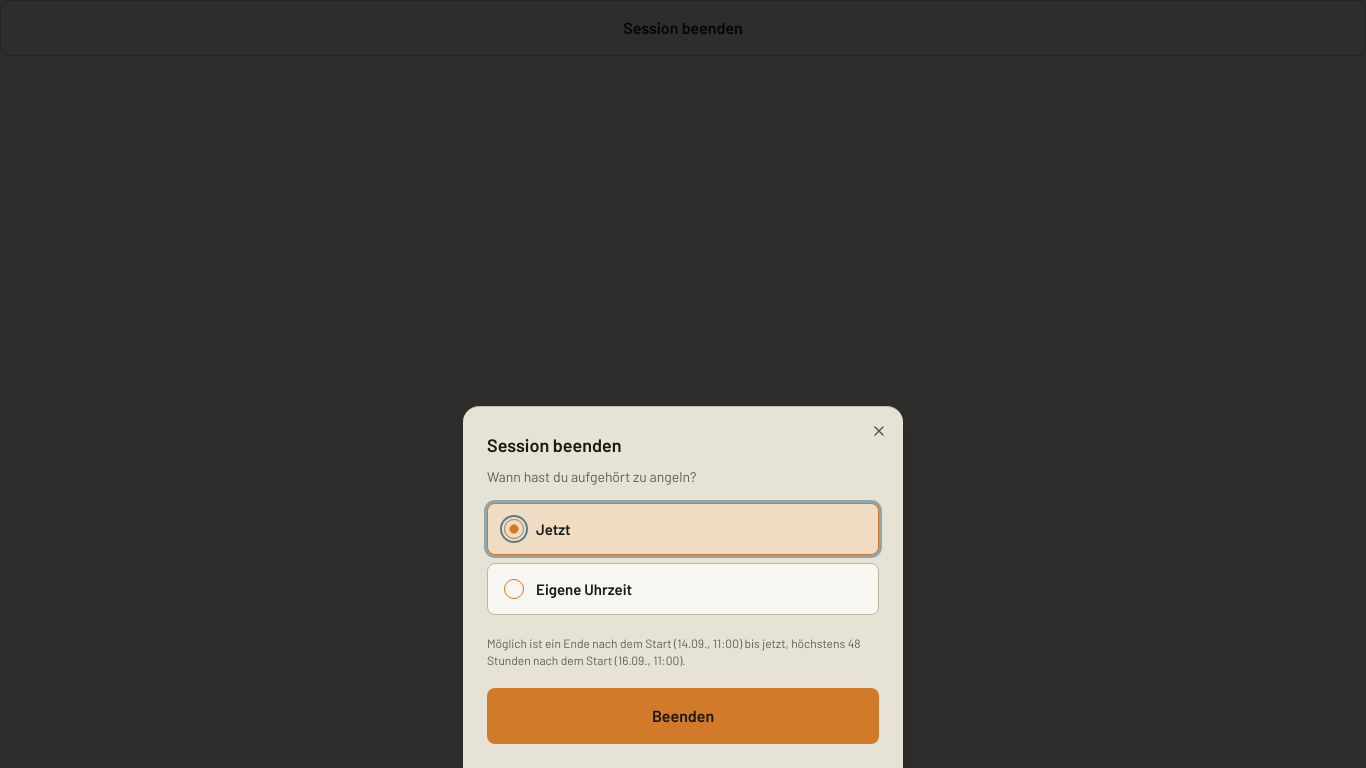
Test: EndSessionSheet › asks for a time before sending a custom end without one
Click the radio button named "Eigene Uhrzeit" next to "Eigene Uhrzeit" at (514, 589), box [504,579,524,599]
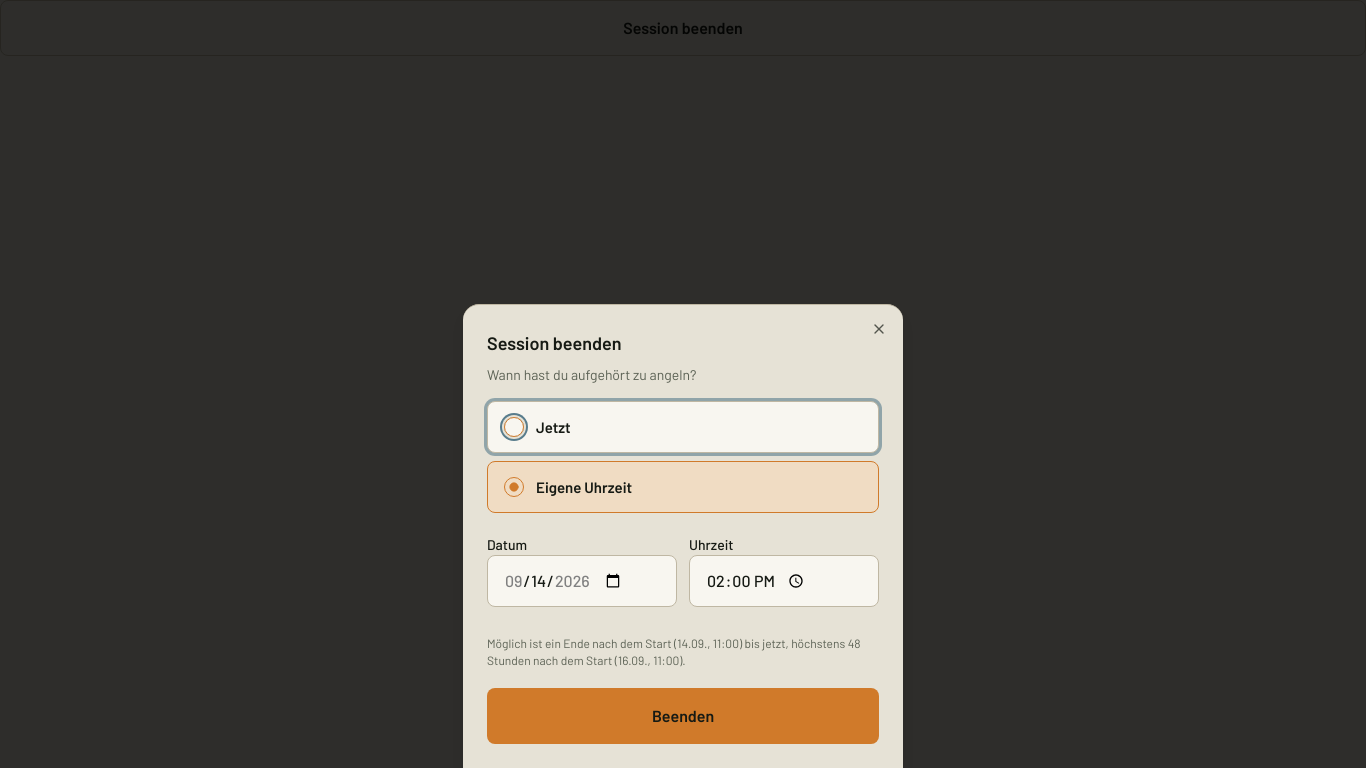
Clear the time field labelled "Uhrzeit" at (784, 581), box [689,555,879,607]
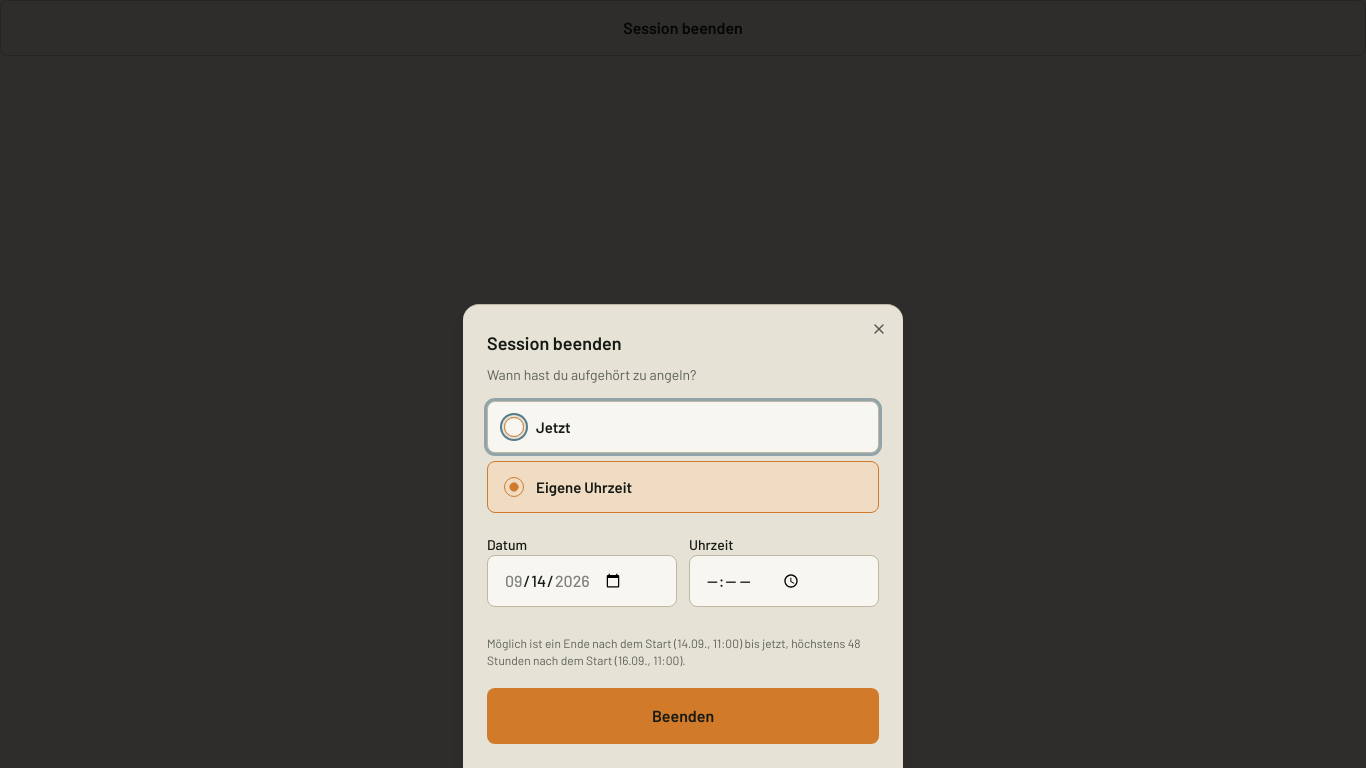
Click the button "Beenden" at (683, 716), box [487,688,879,744]
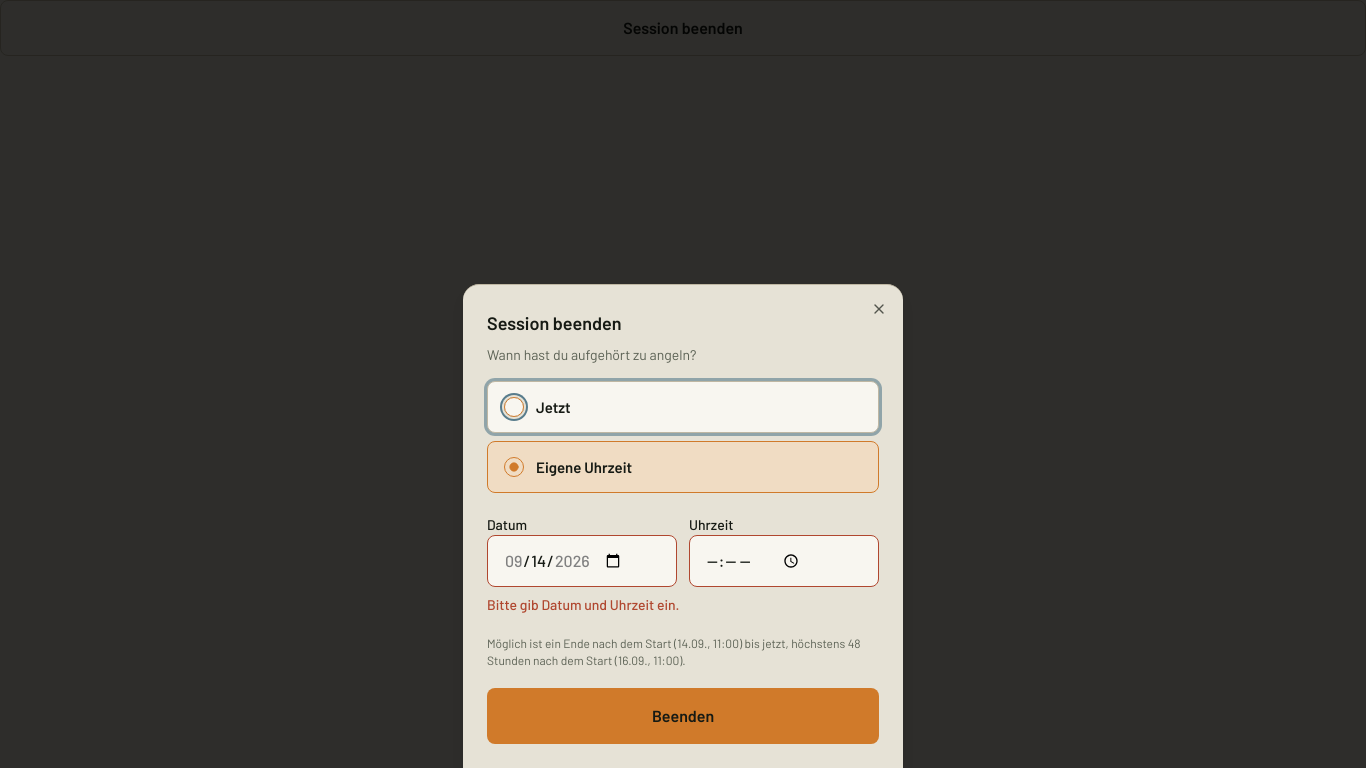
Check: the text "Bitte gib Datum und Uhrzeit ein." is shown, box [487,596,679,613]
